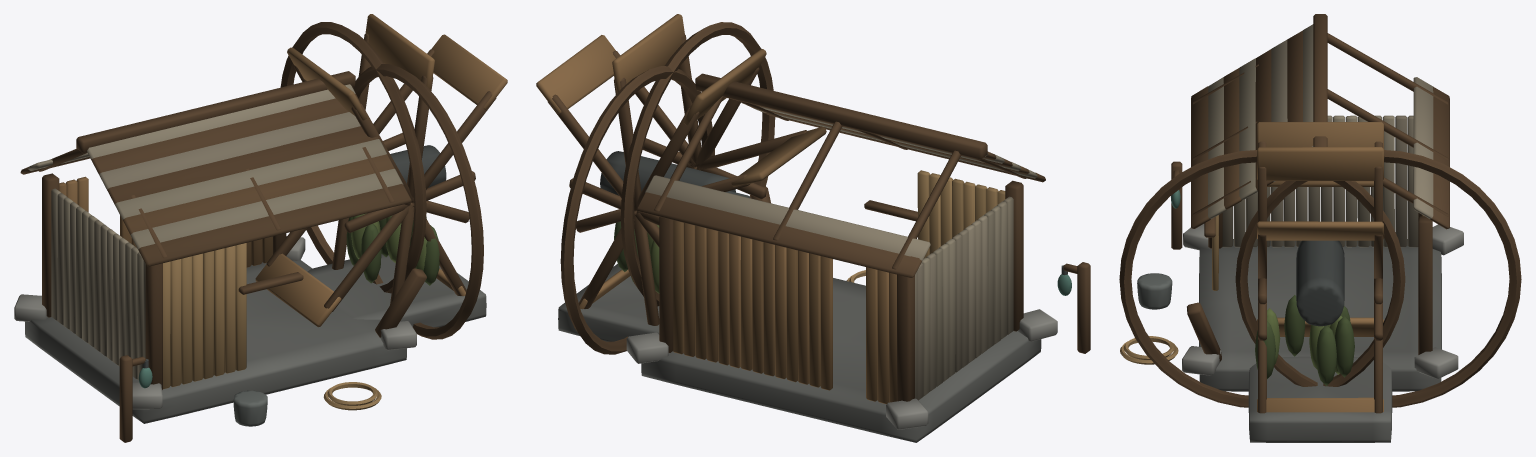
Rendered from sluice_shed_c.glb.
3 renders of one model, left to right at view 1: azimuth 30°, elevation 25°; view 2: azimuth 150°, elevation 25°; view 3: azimuth 270°, elevation 25°, orthographic. The views are drawn at different scales.
Visible parts, largest first — view 1: Surface; view 2: Surface; view 3: Surface.
Boxes of the visible parts, left/top/right/bottom form: Surface: left=14, top=14, right=507, bottom=442; Surface: left=536, top=14, right=1090, bottom=442; Surface: left=1119, top=14, right=1521, bottom=442.
Bounding box in the file's own units: 9.02 × 5.65 × 7.28.
